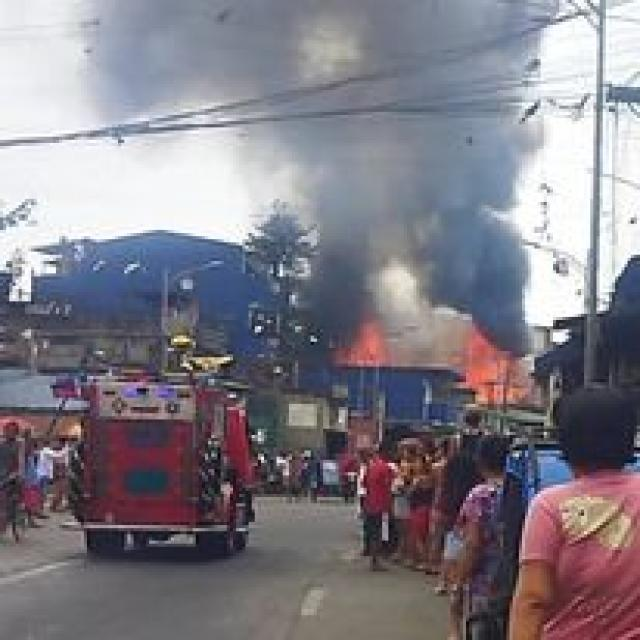Fire: (464, 330, 522, 402), (337, 322, 389, 364)
Smoke: (313, 0, 541, 334), (106, 9, 386, 152), (354, 264, 504, 374)
